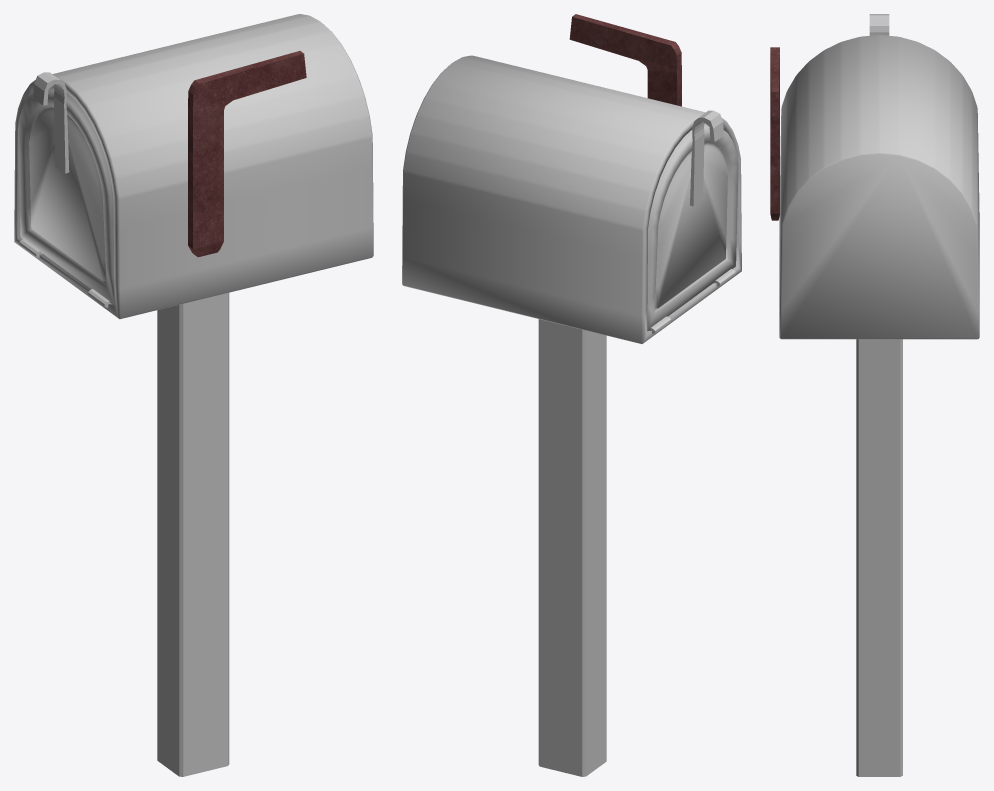
File: mailbox.fbx
The picture shows the model from 3 angles, left to right: view 1: azimuth 30°, elevation 25°; view 2: azimuth 150°, elevation 25°; view 3: azimuth 270°, elevation 25°; orthographic projection. The views are drawn at different scales.
Visible parts, largest first — view 1: correio; view 2: correio; view 3: correio.
Boxes of the visible parts, left/top/right/bottom form: correio: left=14, top=14, right=373, bottom=776; correio: left=402, top=14, right=741, bottom=776; correio: left=770, top=14, right=979, bottom=776.
Size of the model in its own units: 75.08 by 111 by 276.
